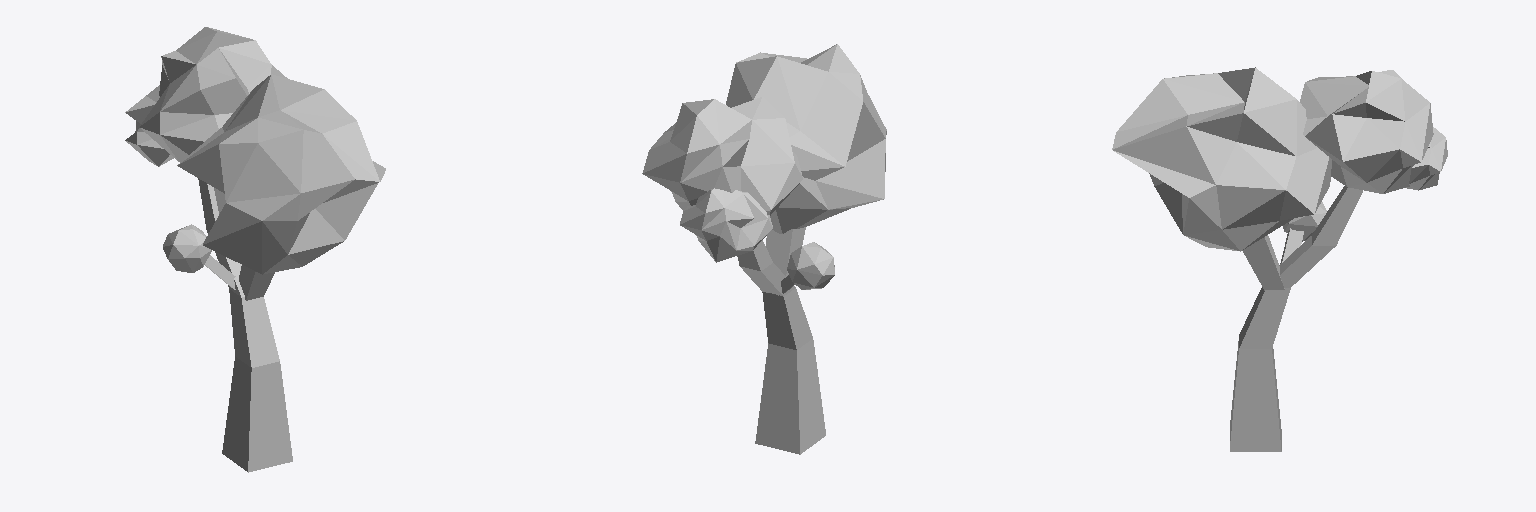
Rendered from tree3.obj.
3 renders of one model, left to right at view 1: azimuth 30°, elevation 25°; view 2: azimuth 150°, elevation 25°; view 3: azimuth 270°, elevation 25°, orthographic.
Visible parts, largest first — view 1: Icosphere.014_Icosphere.013, Icosphere.011_Icosphere.010, Cube.011_Cube.015, Icosphere.015_Icosphere.014; view 2: Icosphere.014_Icosphere.013, Icosphere.011_Icosphere.010, Cube.011_Cube.015, Icosphere.015_Icosphere.014; view 3: Icosphere.014_Icosphere.013, Icosphere.011_Icosphere.010, Cube.011_Cube.015, Icosphere.015_Icosphere.014.
Boxes of the visible parts, <box> form: Icosphere.014_Icosphere.013: <box>177,74,385,274</box>; Icosphere.011_Icosphere.010: <box>125,27,287,166</box>; Cube.011_Cube.015: <box>198,178,292,472</box>; Icosphere.015_Icosphere.014: <box>163,224,211,272</box>; Icosphere.014_Icosphere.013: <box>726,44,886,233</box>; Icosphere.011_Icosphere.010: <box>642,97,802,262</box>; Cube.011_Cube.015: <box>737,227,825,454</box>; Icosphere.015_Icosphere.014: <box>787,242,834,289</box>; Icosphere.014_Icosphere.013: <box>1112,67,1331,251</box>; Icosphere.011_Icosphere.010: <box>1300,70,1447,193</box>; Cube.011_Cube.015: <box>1230,186,1362,451</box>; Icosphere.015_Icosphere.014: <box>1283,202,1326,241</box>.
Bounding box in the file's own units: 1.92 × 4.08 × 3.27.